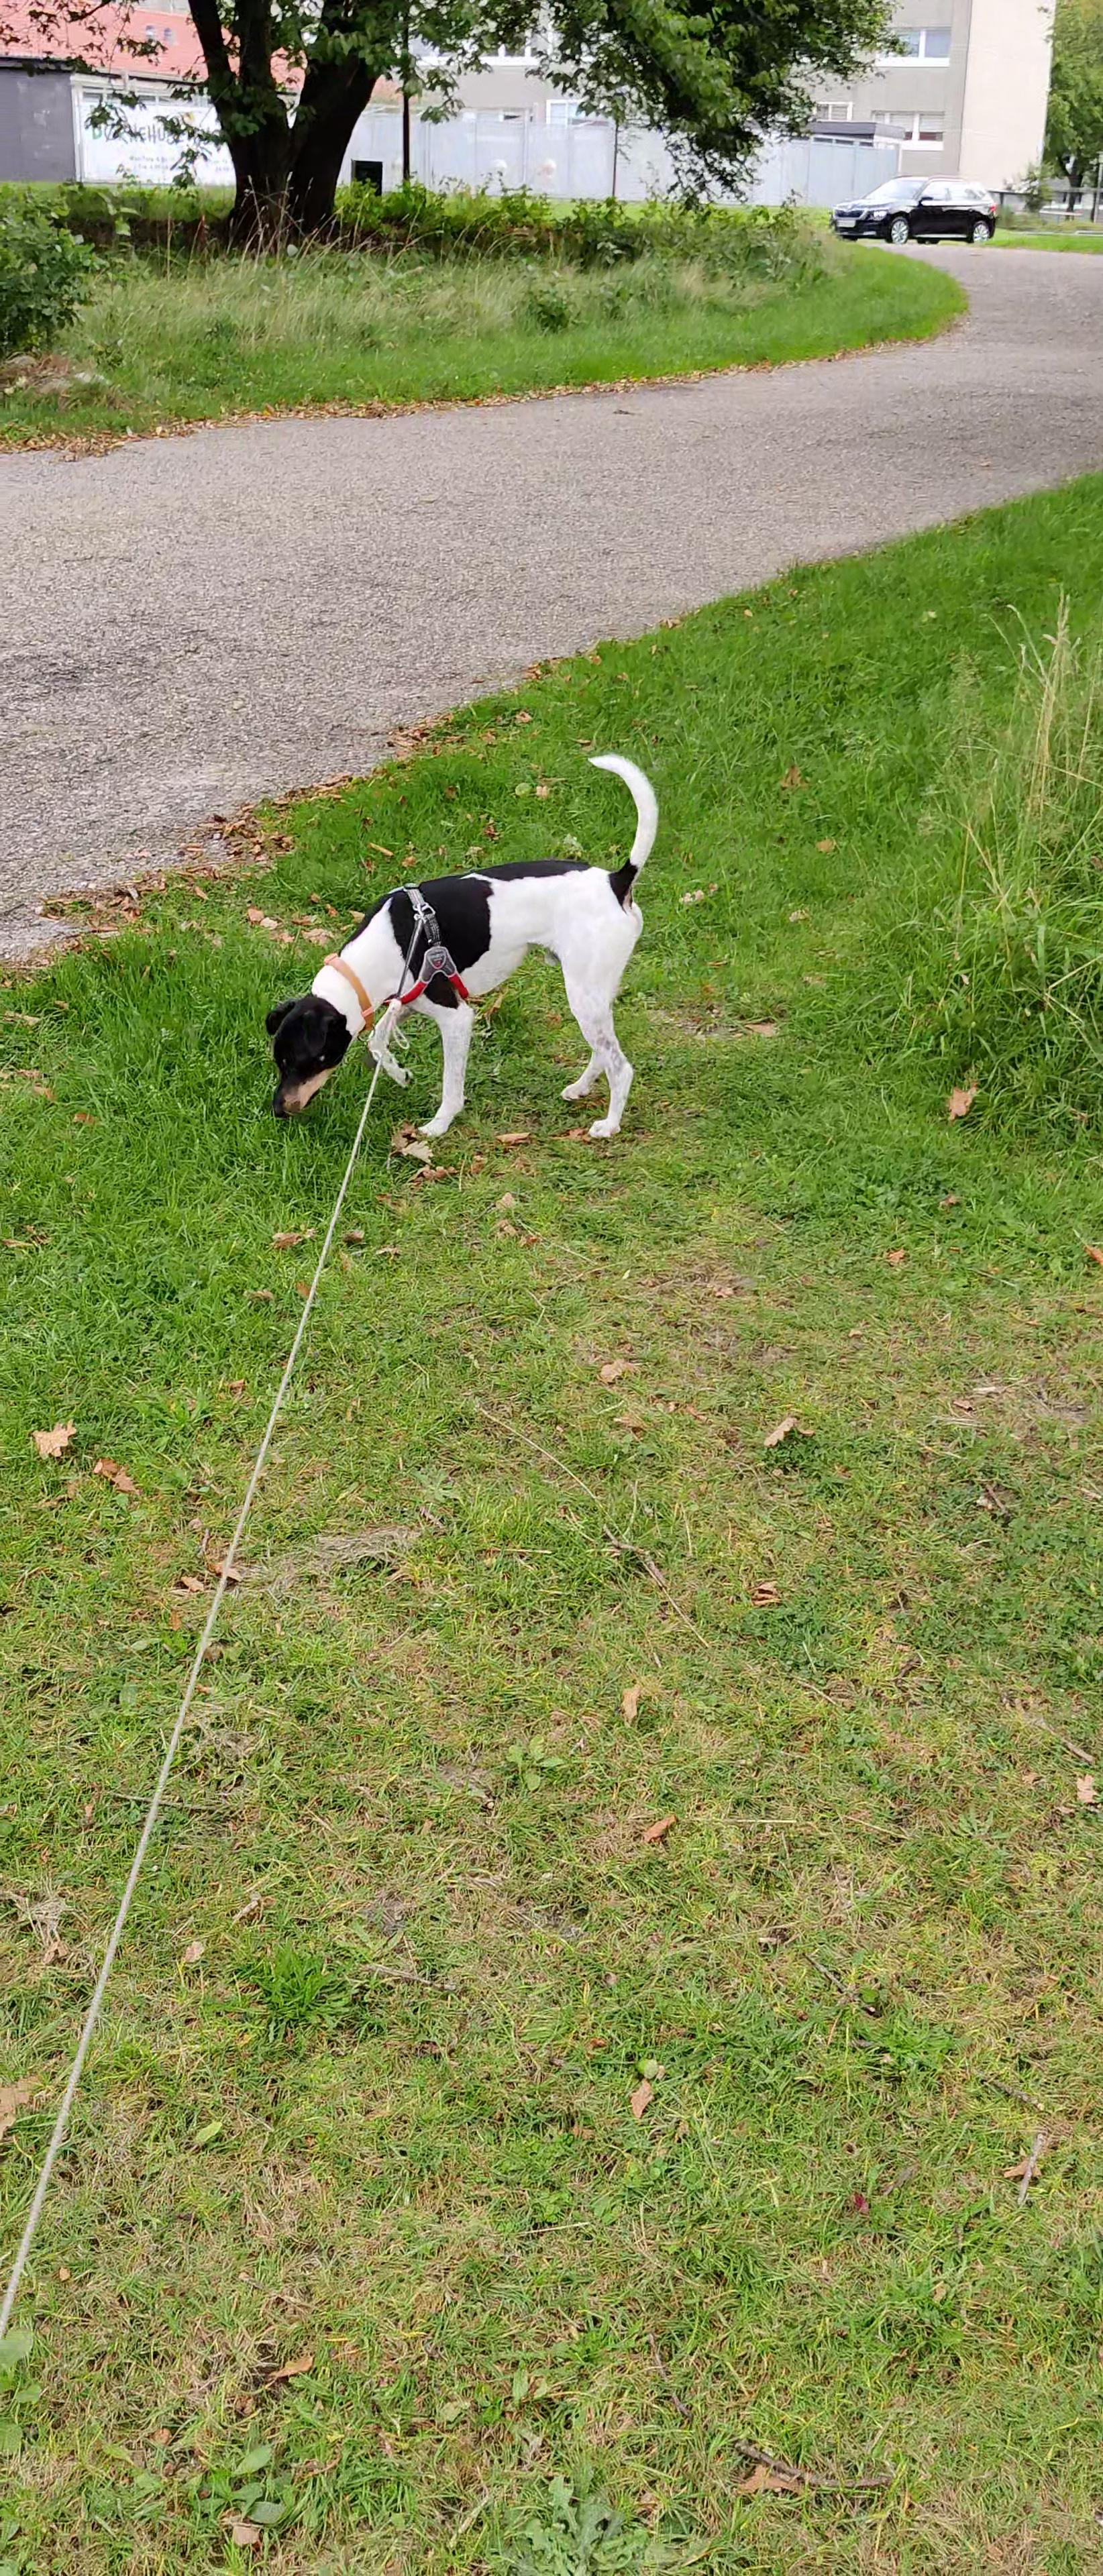Dog: (242, 743, 672, 1147)
